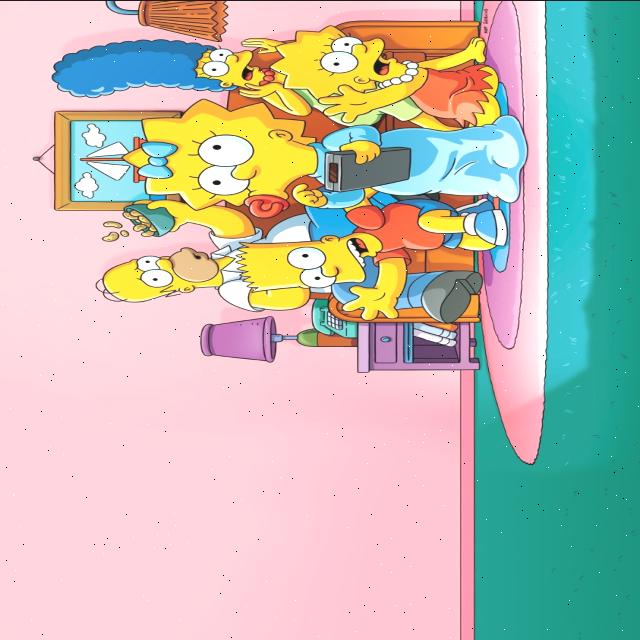Bart Simpson: (236, 230, 386, 292)
Homer Simpson: (92, 245, 227, 305)
Lisa Simpson: (268, 26, 412, 100)
Maggie Simpson: (119, 97, 327, 219)
Marge Simpson: (49, 38, 274, 94)
